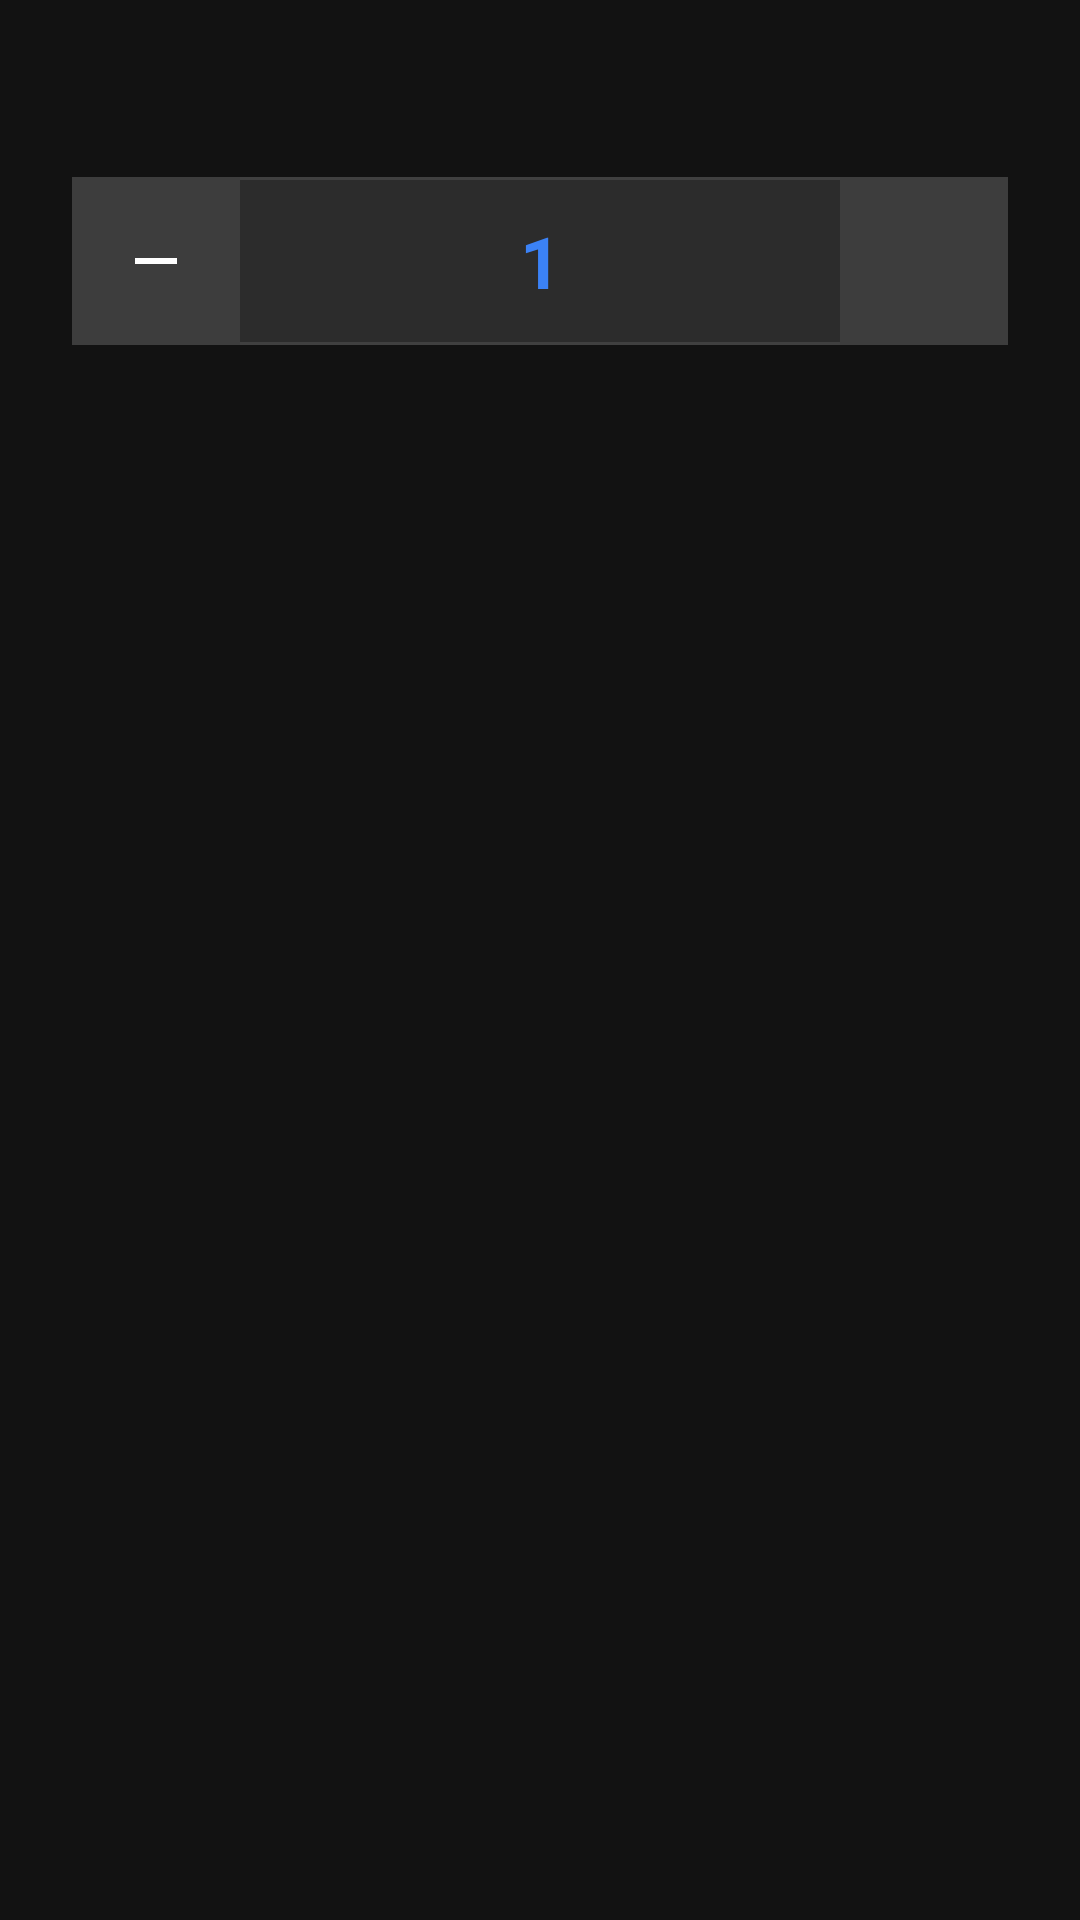

Icon click points for this 1080×1920 phone screenshot, format (x,y):
הקטנת כמות: (156,261)
